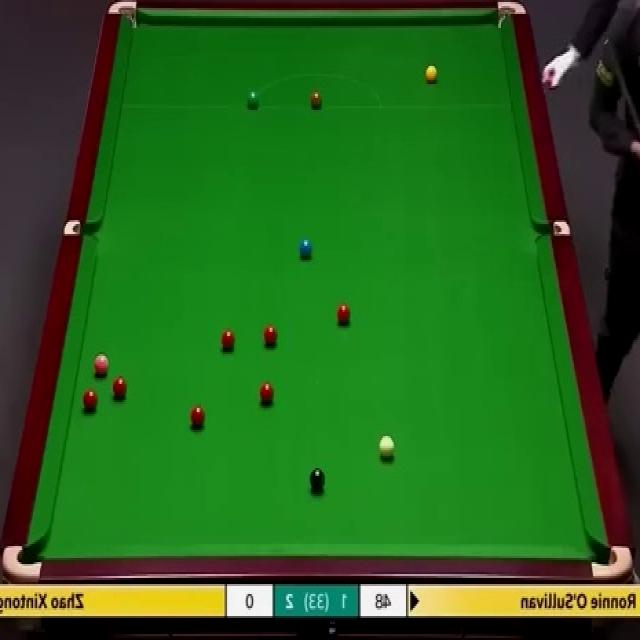black-ball: (309, 466, 326, 489)
blue-ball: (299, 236, 312, 262)
brown-ball: (309, 91, 323, 109)
green-ball: (245, 88, 260, 110)
pink-ball: (92, 354, 110, 374)
red-ball: (189, 405, 206, 432), (262, 325, 280, 348), (260, 382, 275, 406), (220, 328, 234, 352), (112, 376, 128, 397), (83, 390, 99, 411), (337, 303, 351, 324)
white-ball: (379, 435, 396, 462)
yellow-ball: (425, 66, 437, 85)
